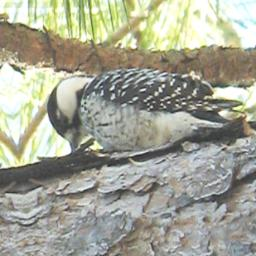Woodpecker: (43, 44, 253, 172)
